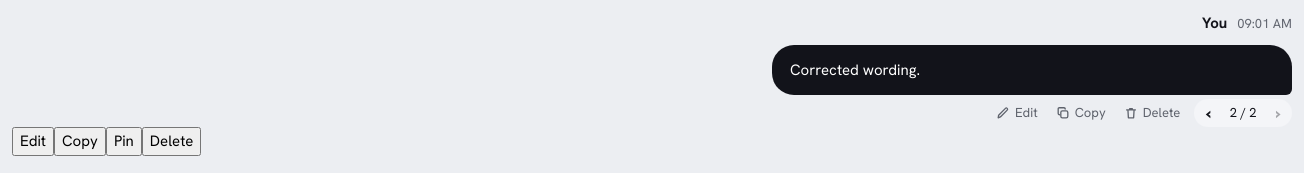
Test: an edited message’s version control opens the older read-only branch
The width and height of the screenshot is (1304, 173).
Expected: the text "Corrected wording." is shown, [790,60,920,80]
Expected: the element named "Message versions" shows "2 / 2", [1194,99,1292,127]
Click the button named "Previous version" at (1208, 113), box [1194,99,1222,127]
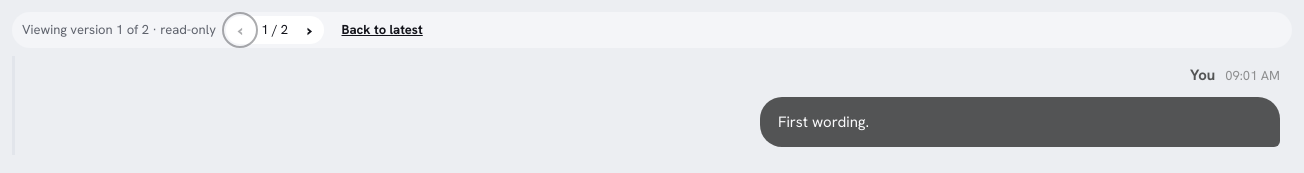
Now the text "Viewing version 1 of 2 · read-only" is shown, box [22,20,216,40]
Now the text "First wording." is shown, box [778,112,869,132]
